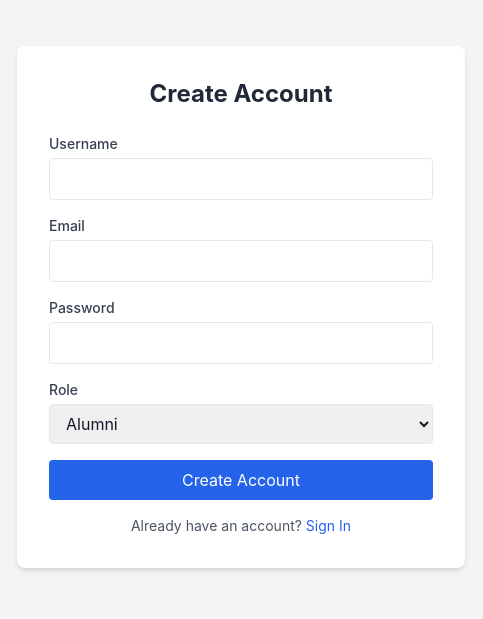
Test case: RegisterPage › rejects short username with shared validator error
Type "ab" into the field below "Username" at (241, 179), box x1=49 y1=158 x2=433 y2=200
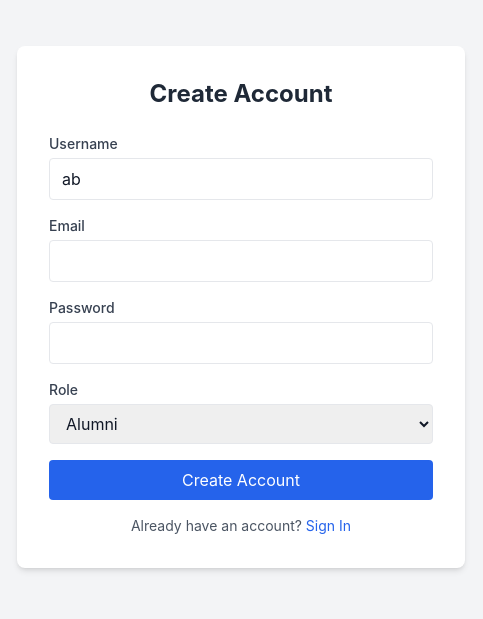
Type "a@t.com" into the field below "Email" at (241, 261), box x1=49 y1=240 x2=433 y2=282
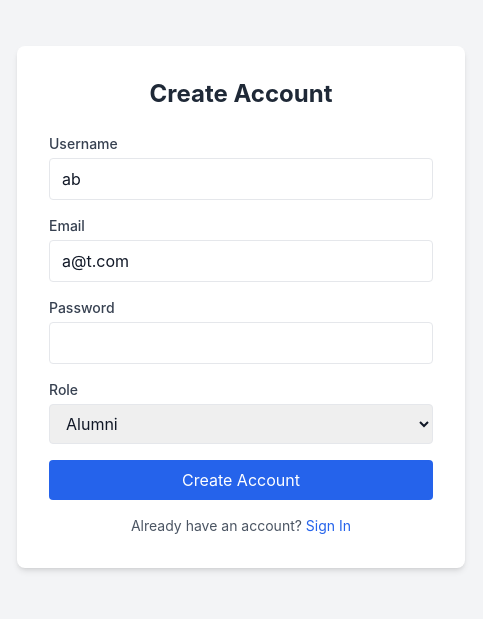
Type "Pass1234" into the password field at (241, 343), box x1=49 y1=322 x2=433 y2=364
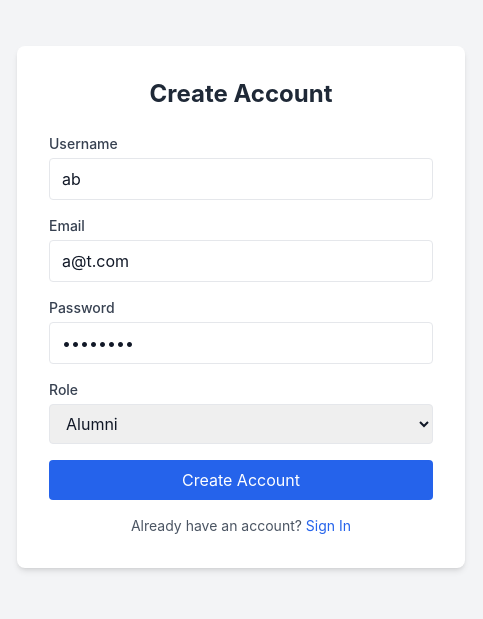
Click the button "Create Account" at (241, 480), box x1=49 y1=460 x2=433 y2=500
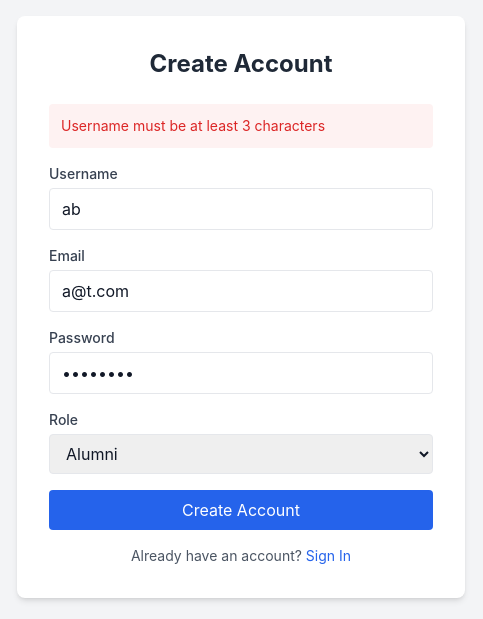
Now the text "Username must be at least 3 characters" is shown, box x1=49 y1=104 x2=433 y2=148
